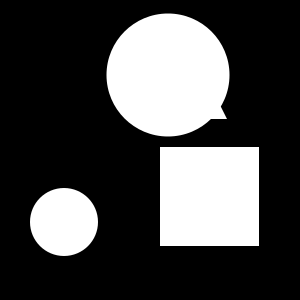circle: (160, 147, 259, 246)
rectangle: (107, 14, 230, 136), (30, 188, 98, 256)
triangle: (193, 85, 227, 119)
